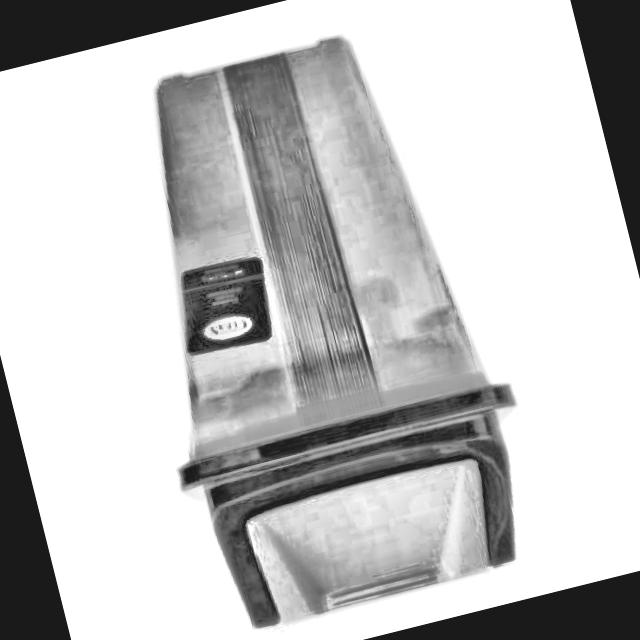Dustbin: (68, 0, 567, 640)
